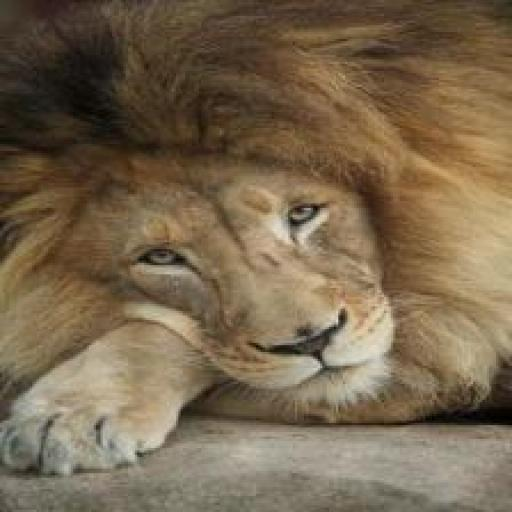lion: (14, 73, 463, 398)
